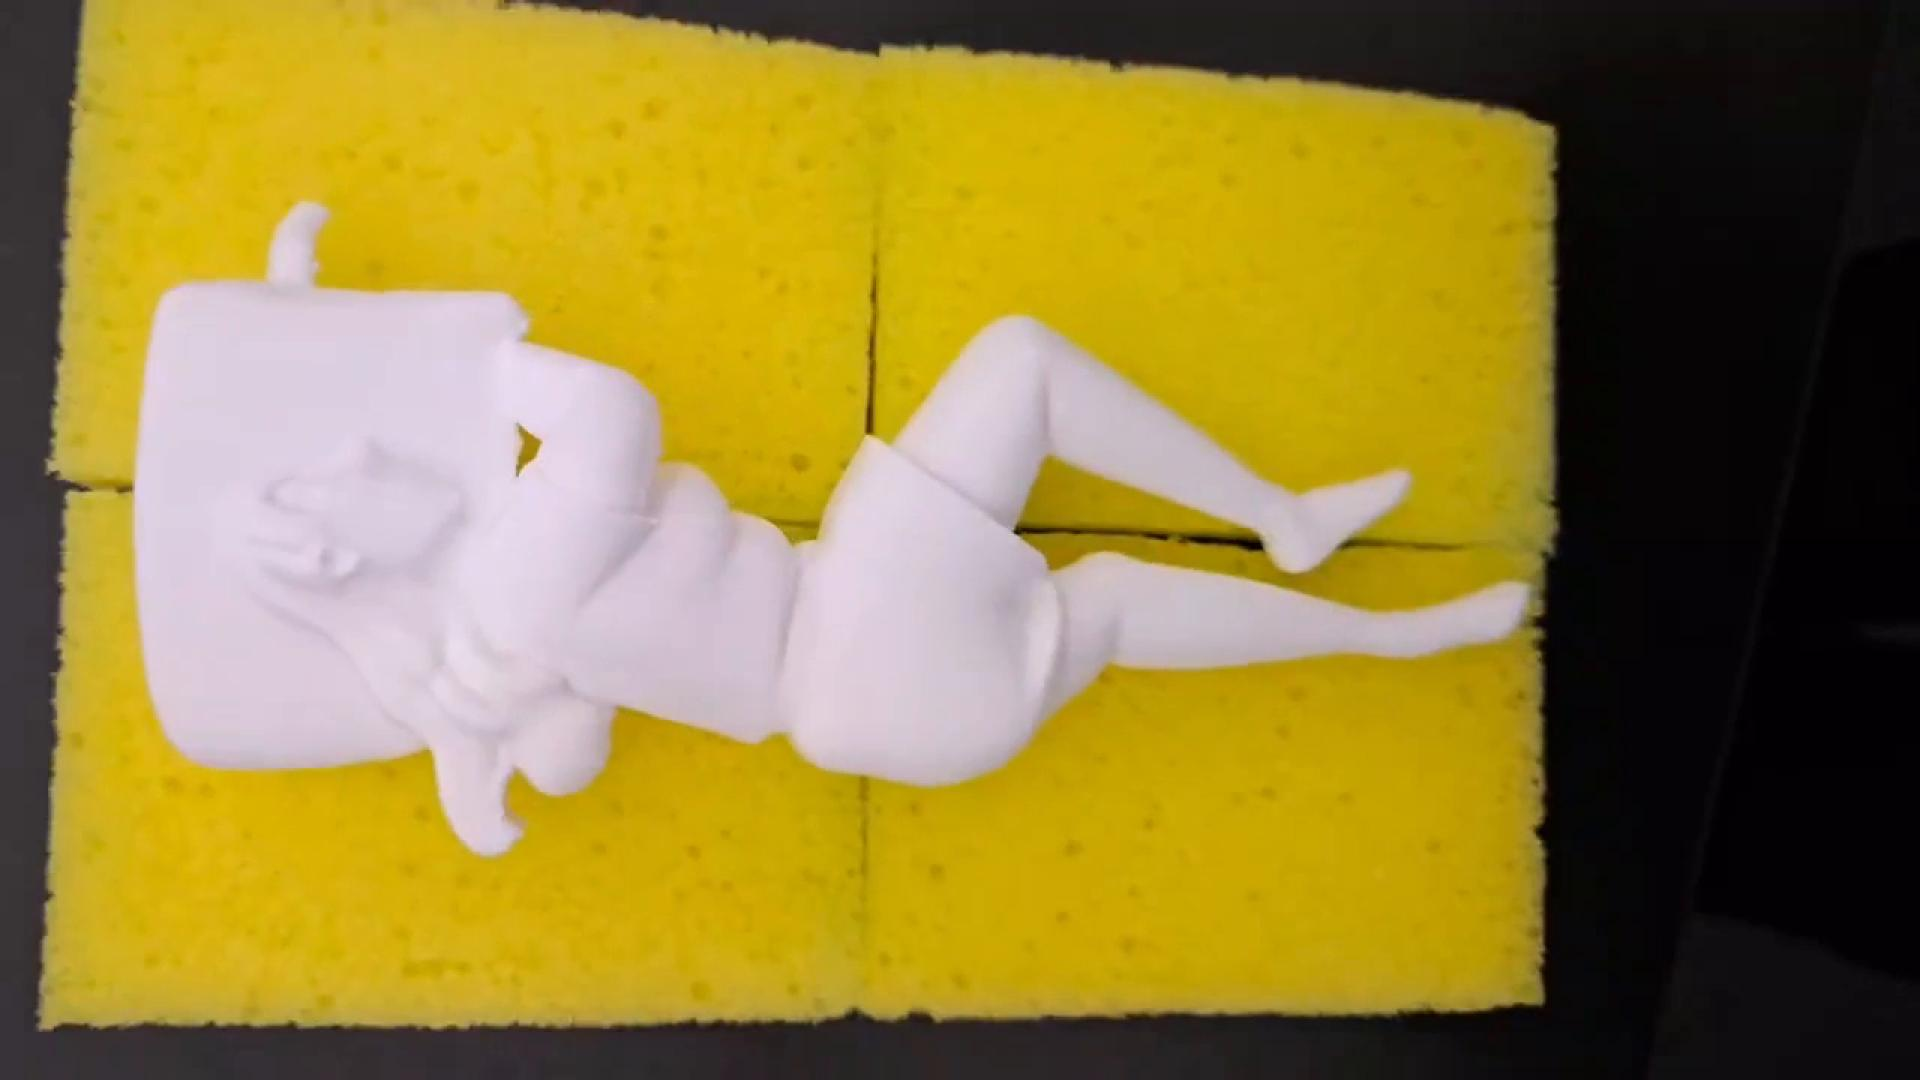Good-style: (132, 202, 1532, 852)
